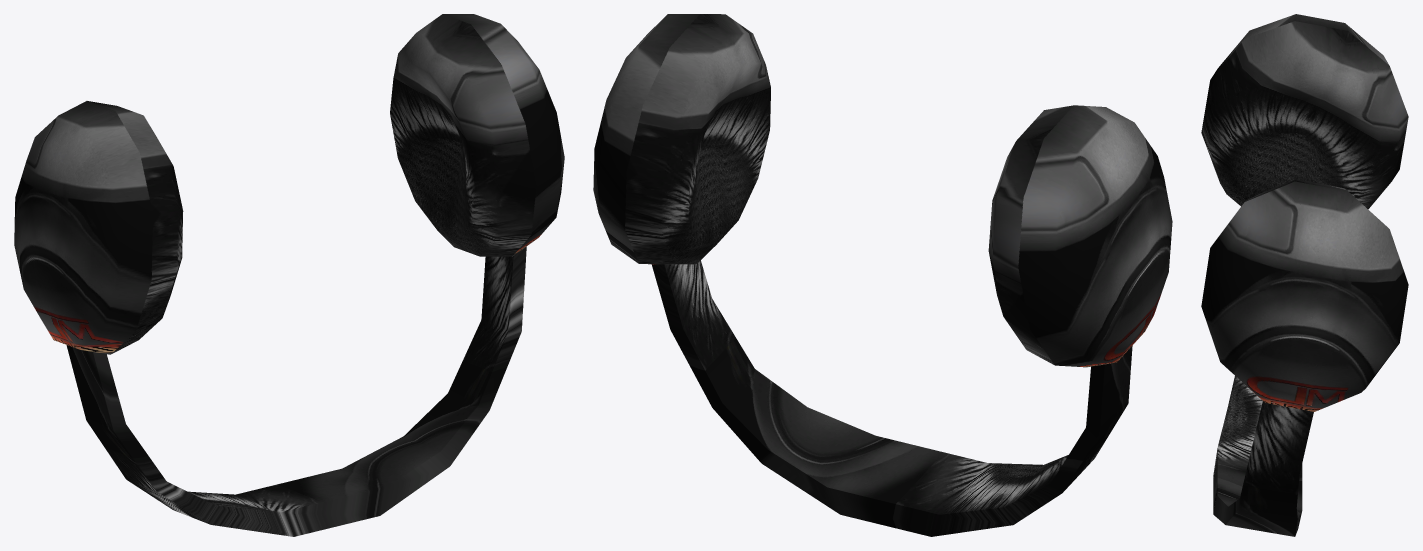
Rendered from Headwear30.glb.
3 renders of one model, left to right at view 1: azimuth 30°, elevation 25°; view 2: azimuth 150°, elevation 25°; view 3: azimuth 270°, elevation 25°, orthographic. The views are drawn at different scales.
Parts seen in each view (by area): view 1: Headwear30; view 2: Headwear30; view 3: Headwear30.
Part boxes in pixels (bbox=[...]): Headwear30: bbox=[14, 14, 564, 536]; Headwear30: bbox=[593, 14, 1172, 536]; Headwear30: bbox=[1201, 14, 1408, 536].
Bounding box in the file's own units: 2.42 × 2.02 × 0.9305.
Materials: 1 (1 with a texture image).
